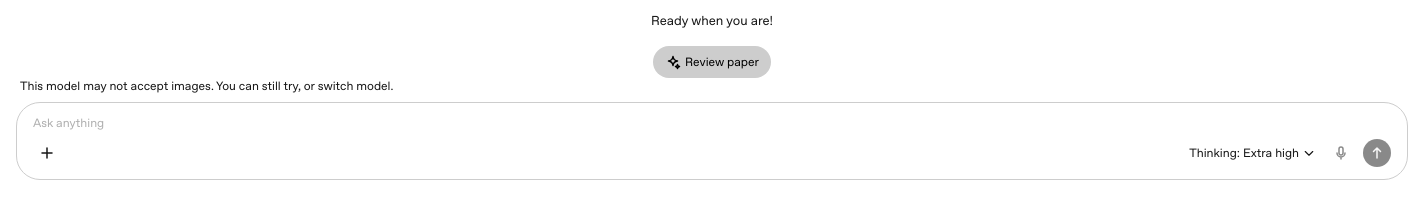
Scenario: Composer › the + menu offers Upload files & photos and opens a file picker
The width and height of the screenshot is (1425, 197).
Later steps or results of the test are not shown.
What coordinates should you click on to do the following:
click the button named "Add files"
I would click on:
 (47, 153)
Its box is [33, 139, 61, 167].
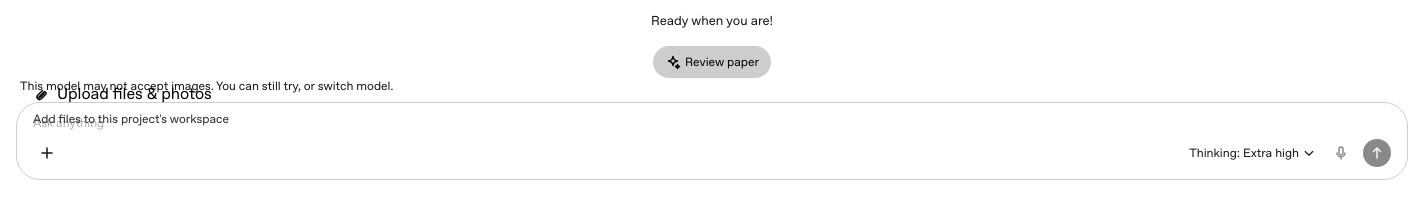
Expected: the menu item "Upload files & photos Add files to this project's workspace" is enabled, [33, 82, 229, 130]
